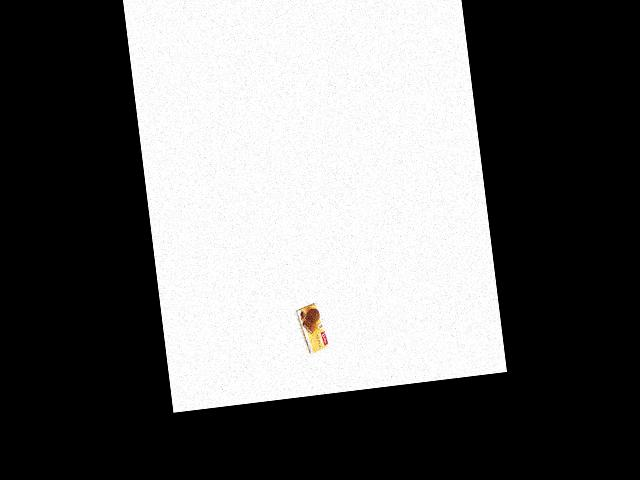chocolate: (299, 298, 330, 362)
